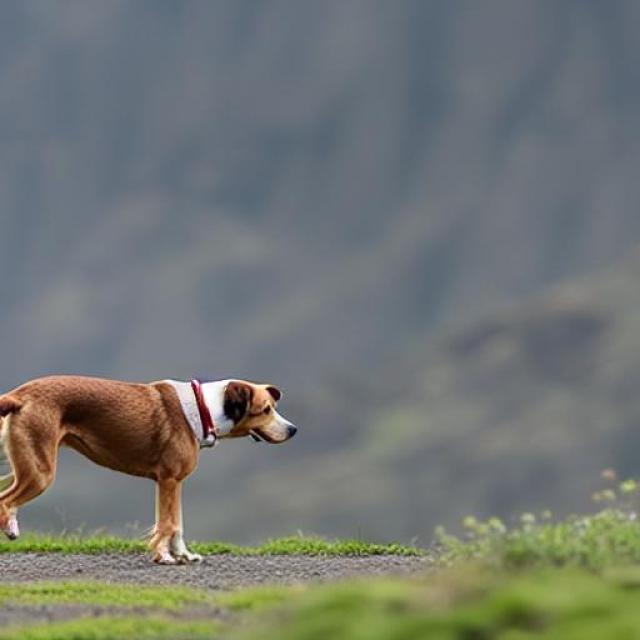Dog: (0, 374, 296, 563)
